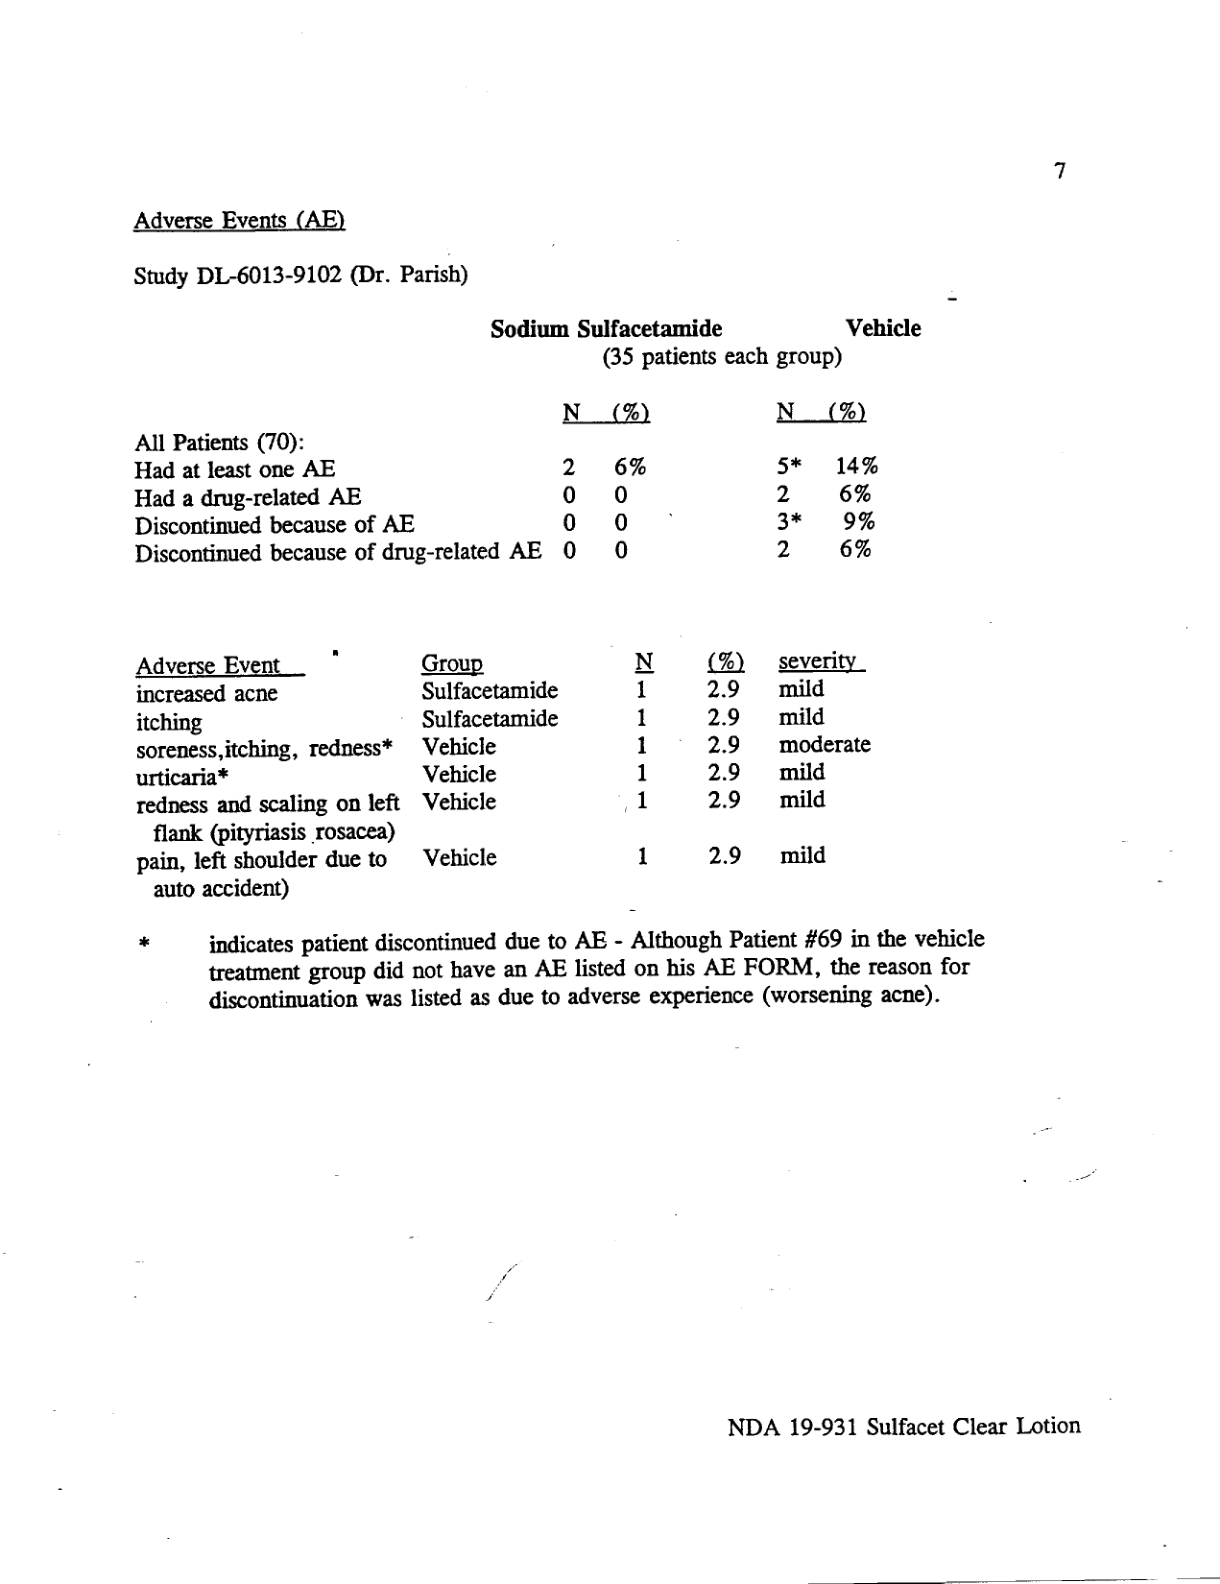nolines: (135, 648, 878, 900), (132, 399, 883, 563)
